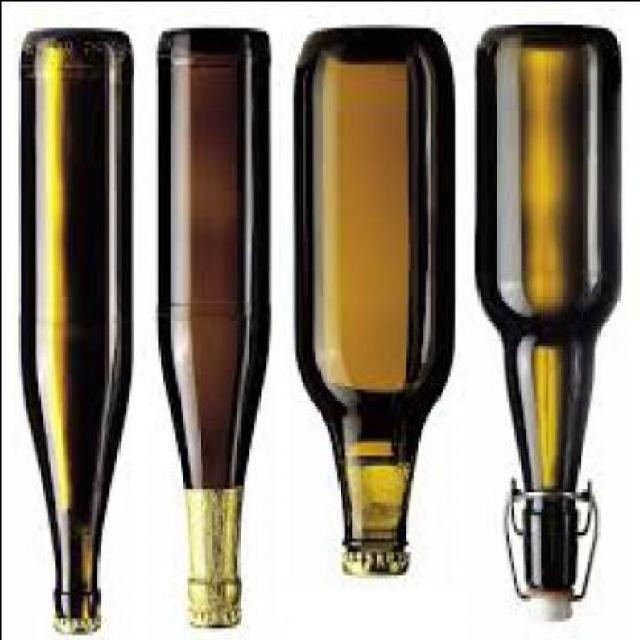GLASS: (294, 30, 454, 553), (475, 27, 623, 590), (157, 30, 272, 610), (19, 37, 133, 617)
METAL: (343, 557, 409, 580), (192, 613, 240, 630), (58, 624, 98, 636)
PLASTIC: (530, 597, 573, 623)
